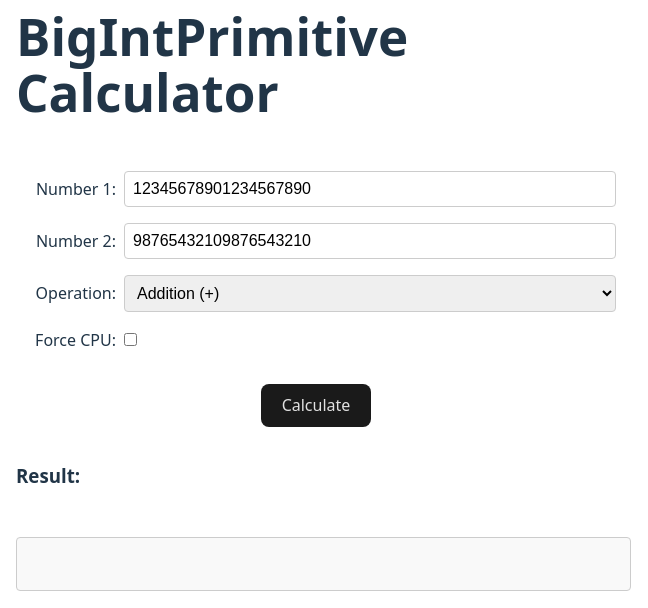
App Component › performs simple addition (WebGL Path) and displays result
Replace the text in the field labelled "Number 1:" with "10" at [370, 189], box [124,171,616,207]
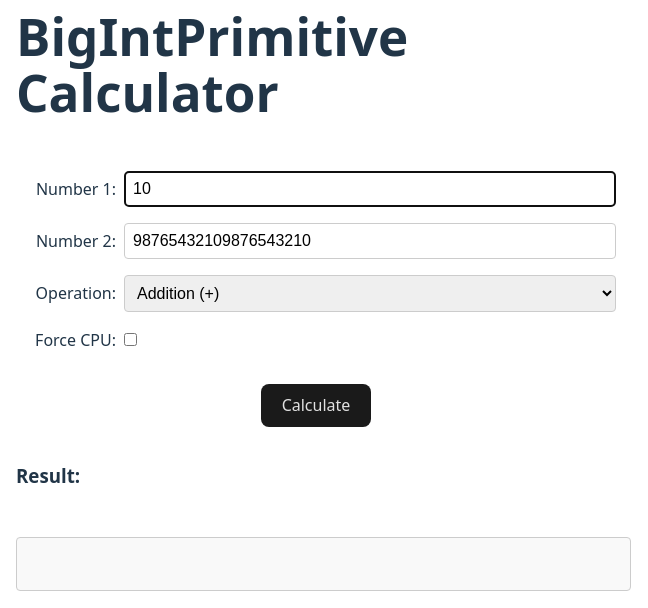
Replace the text in the field labelled "Number 2:" with "20" at [370, 241], box [124,223,616,259]
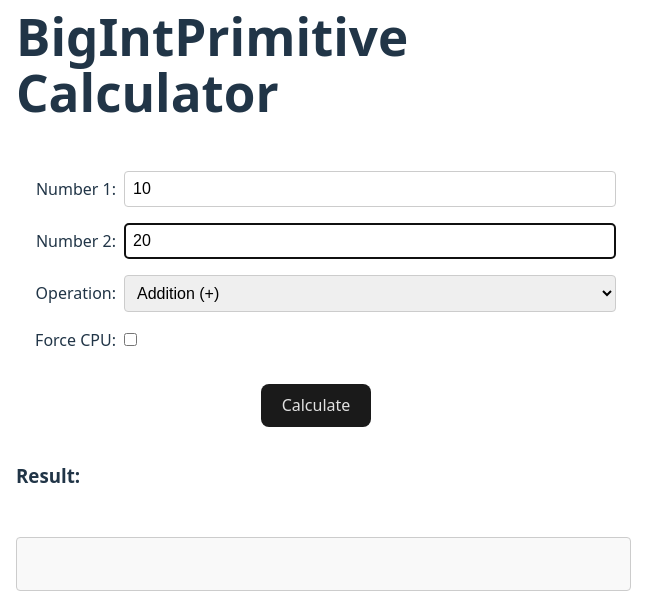
Select "Addition (+)" in the dropdown labelled "Operation:" at [370, 293], box [124,275,616,312]
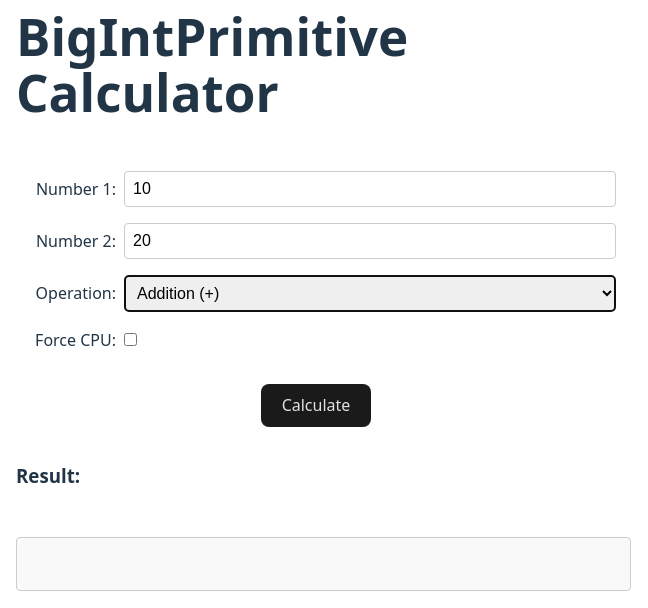
Click the button "Calculate" at [316, 405], box [262,384,371,427]
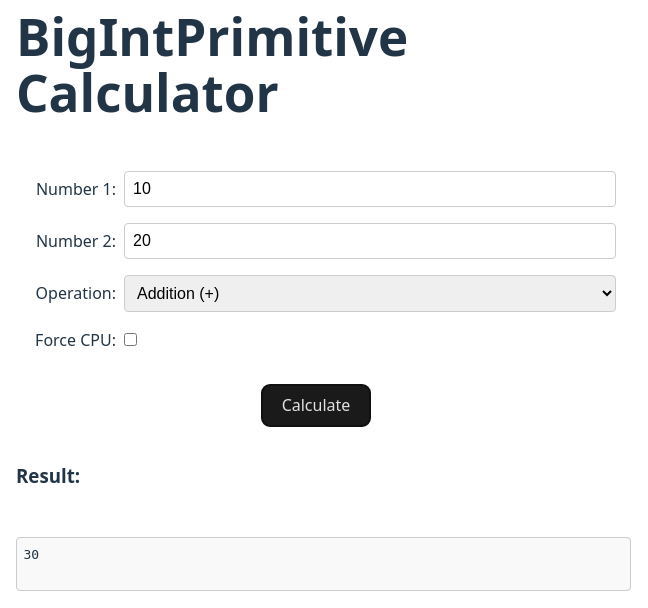
Expected: the text "30" is shown, [16,538,631,592]
